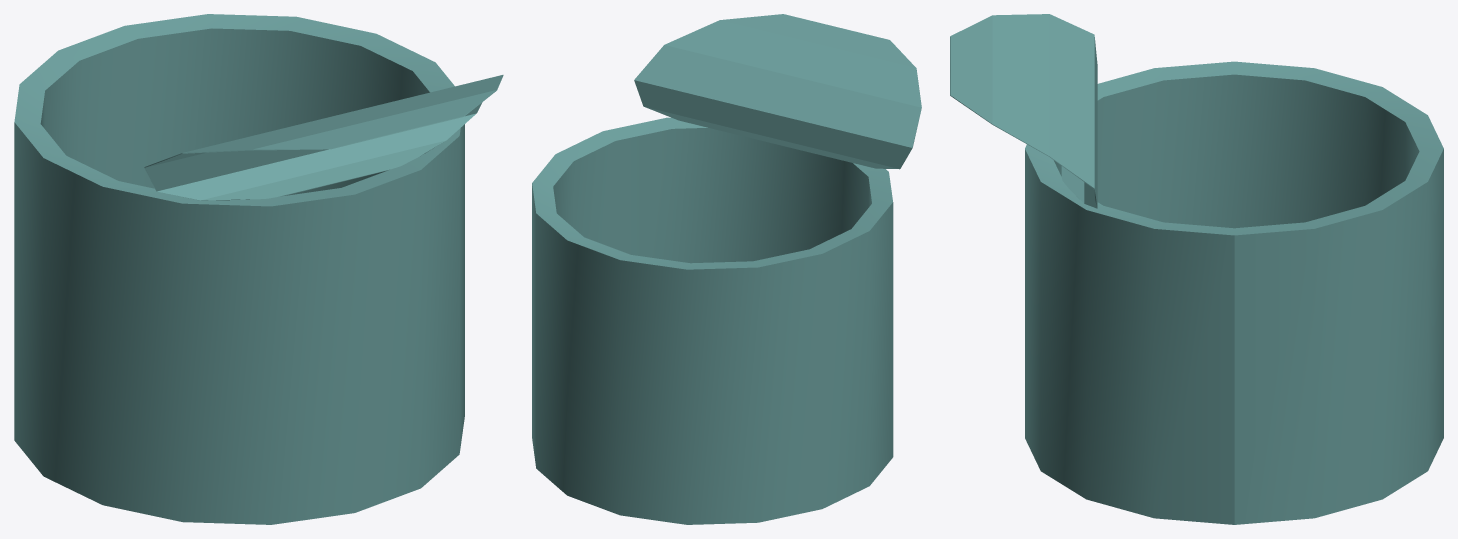
File: Can.fbx
3 views of the same model, side by side, from view 1: azimuth 30°, elevation 25°; view 2: azimuth 150°, elevation 25°; view 3: azimuth 270°, elevation 25° (orthographic). The views are drawn at different scales.
Parts seen in each view (by area): view 1: tin; view 2: tin; view 3: tin.
Boxes of the visible parts, x1,y1,x2,y2 form: tin: [14, 14, 503, 524]; tin: [532, 14, 921, 524]; tin: [950, 14, 1443, 524].
Bounding box in the file's own units: 50 × 50 × 60.
